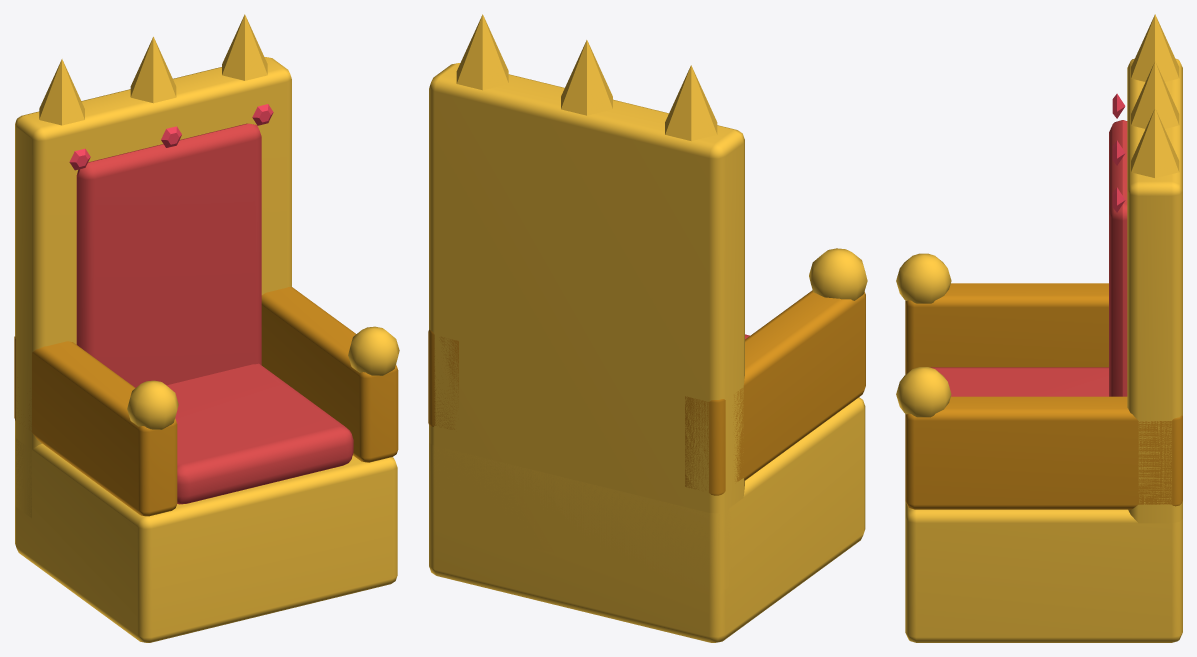
File: Throne.fbx
3 views of the same model, side by side, from view 1: azimuth 30°, elevation 25°; view 2: azimuth 150°, elevation 25°; view 3: azimuth 270°, elevation 25° (orthographic). The views are drawn at different scales.
Parts seen in each view (by area): view 1: Throne; view 2: Throne; view 3: Throne.
Boxes of the visible parts, x1,y1,x2,y2 form: Throne: [14, 14, 399, 642]; Throne: [428, 14, 867, 642]; Throne: [896, 14, 1182, 642].
Bounding box in the file's own units: 3.47 × 6.2 × 3.1.
1 material, 1 textured.
